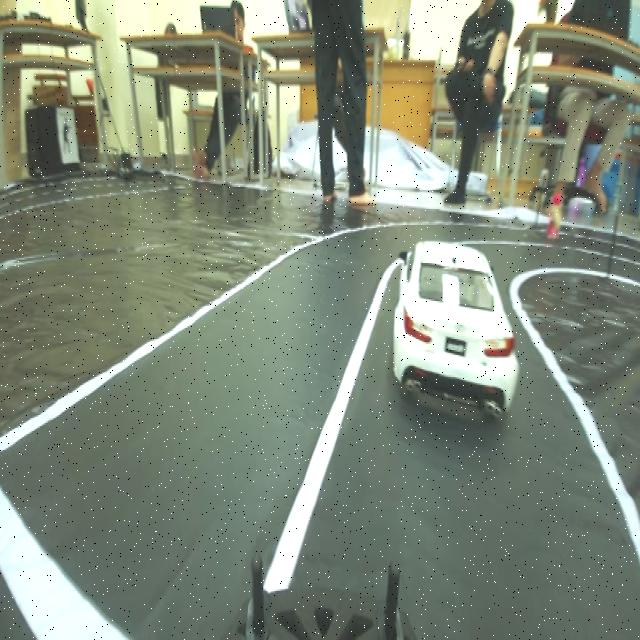car: (389, 234, 527, 425)
